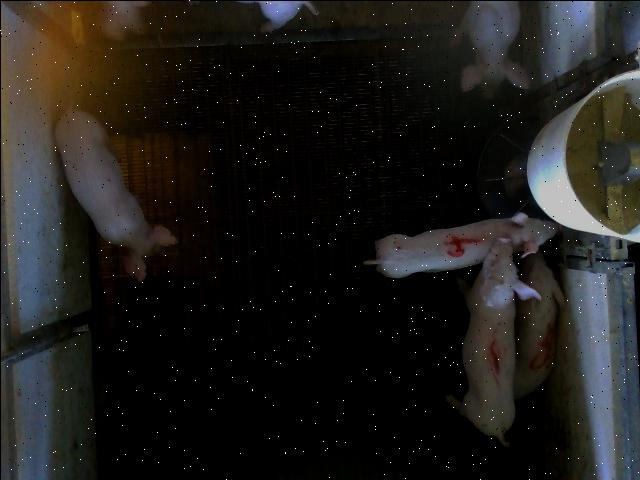pig-1: (445, 237, 539, 445)
pig-4: (364, 212, 558, 278)
pig-5: (512, 251, 564, 399)
